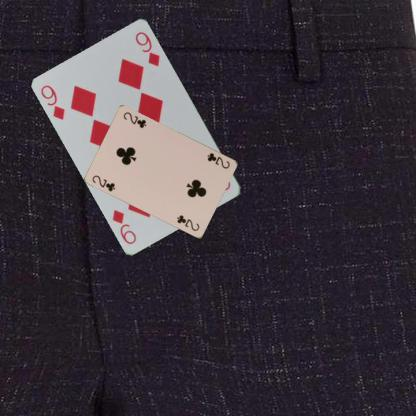2c: (205, 150, 231, 170), (90, 173, 116, 193)
9d: (38, 82, 67, 121)
